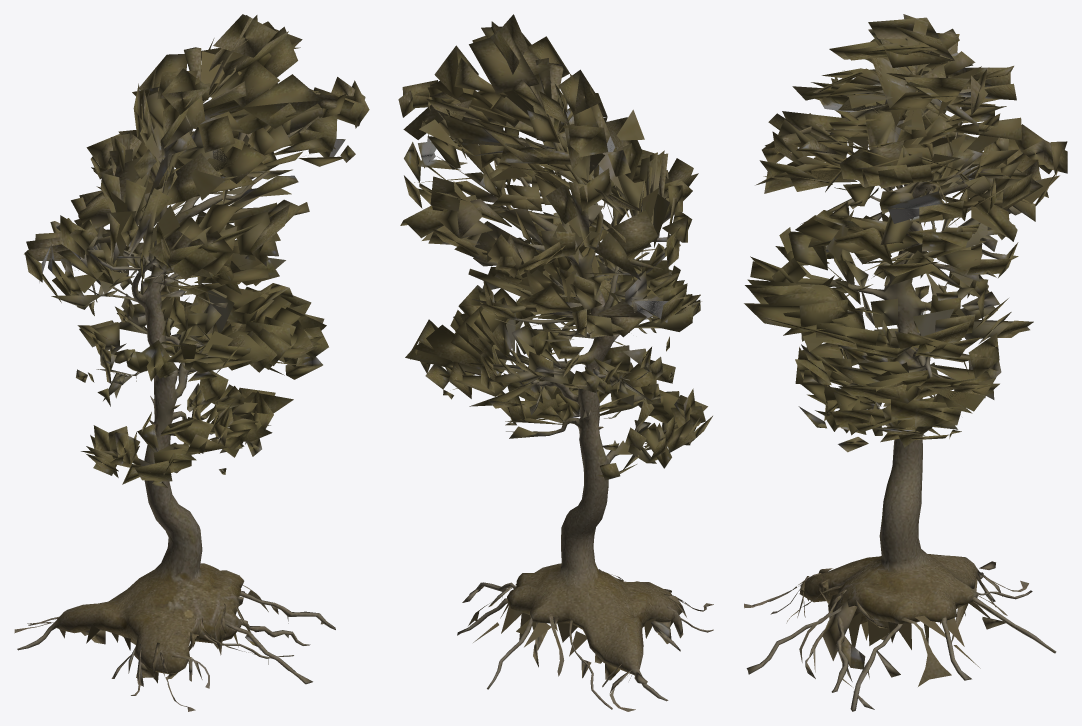
File: nat-pine_optimized.glb
The picture shows the model from 3 angles, left to right: view 1: azimuth 30°, elevation 25°; view 2: azimuth 150°, elevation 25°; view 3: azimuth 270°, elevation 25°; orthographic projection. The views are drawn at different scales.
Visible parts, largest first — view 1: Mesh_0; view 2: Mesh_0; view 3: Mesh_0.
Part boxes in pixels (x1=…): Mesh_0: x1=14, y1=14, x2=369, y2=711; Mesh_0: x1=398, y1=14, x2=713, y2=711; Mesh_0: x1=744, y1=14, x2=1067, y2=711.
Size of the model in its own units: 0.4966 by 0.9521 by 0.4194.
Materials: 1 (1 with a texture image).
